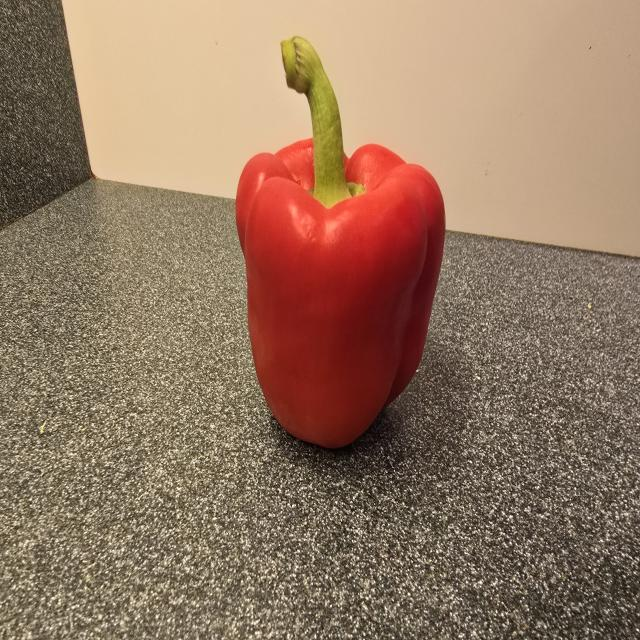Bell Pepper: (226, 24, 456, 464)
